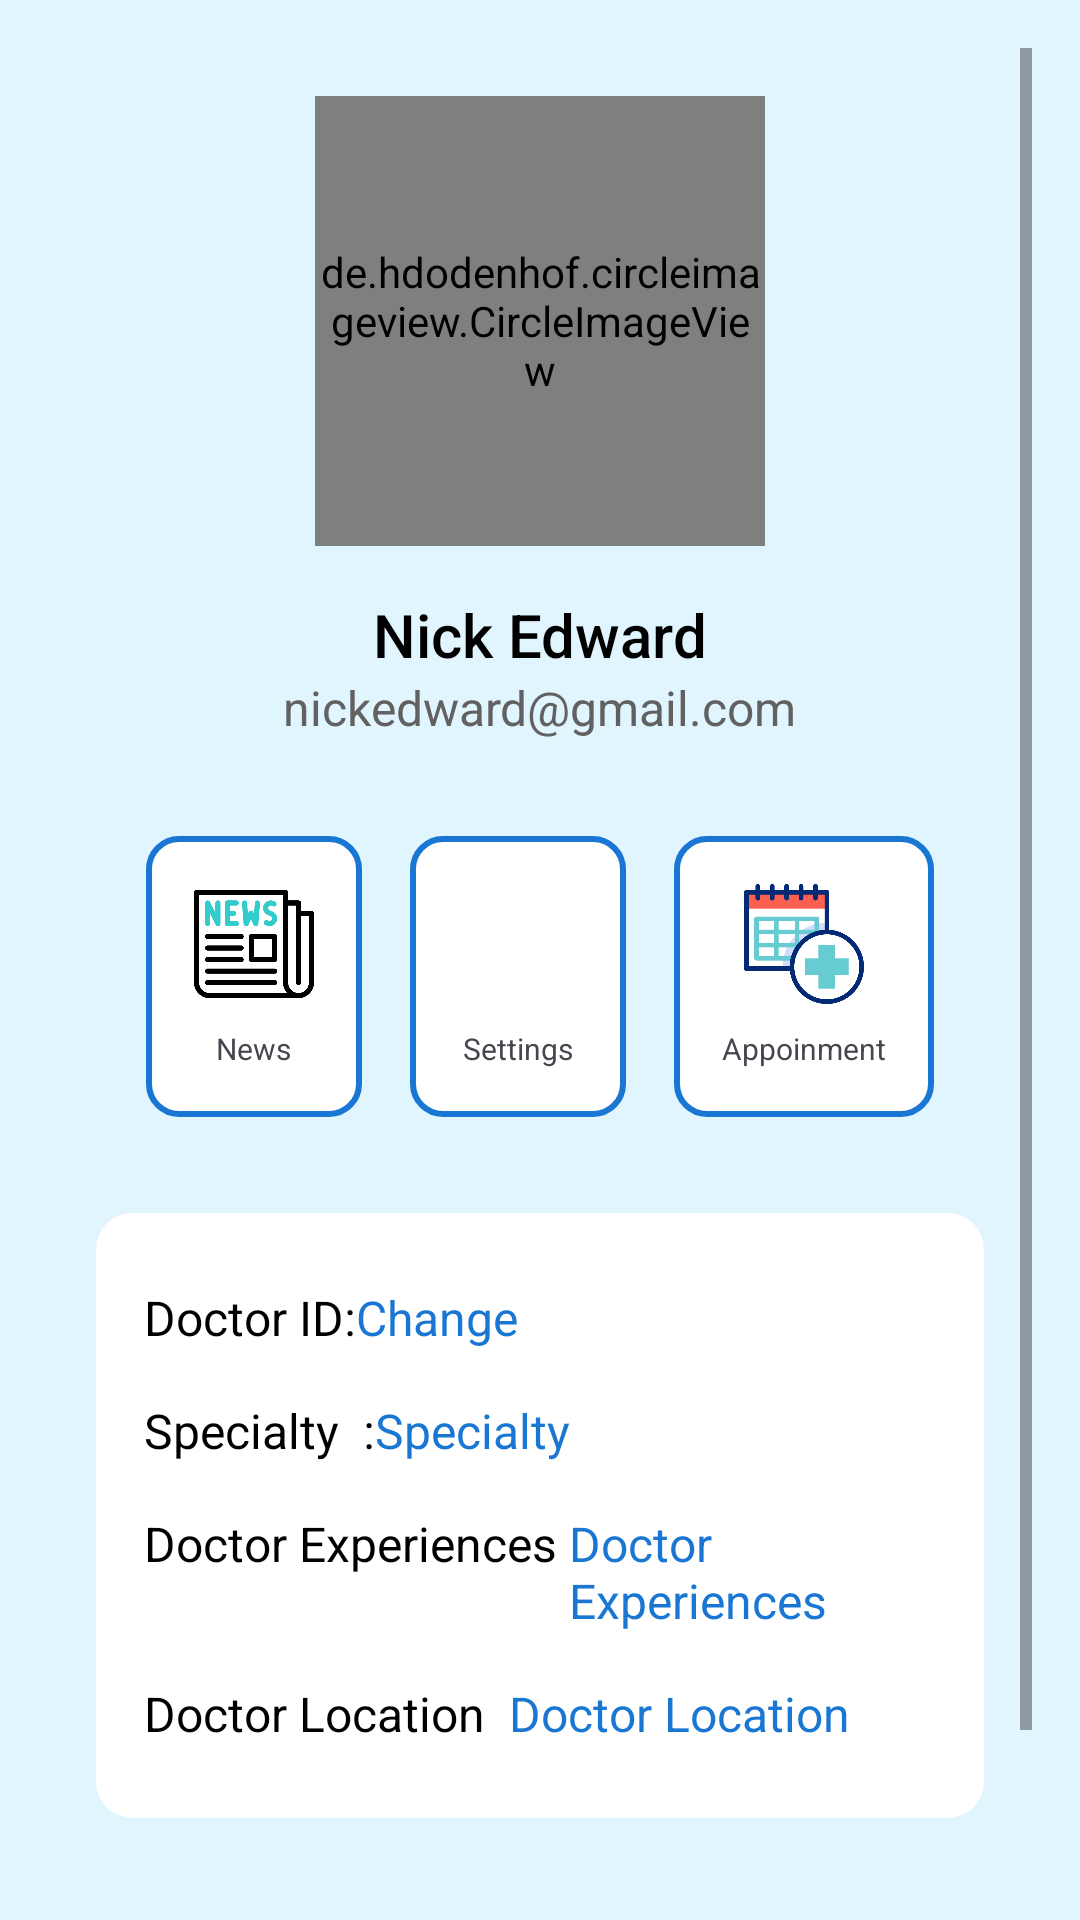

Screen size 1080*1920. Icon name, then its box in pixels as (left=x1, top=y1, right=x2, bottom=y2):
calendar: (left=744, top=884, right=864, bottom=1004)
